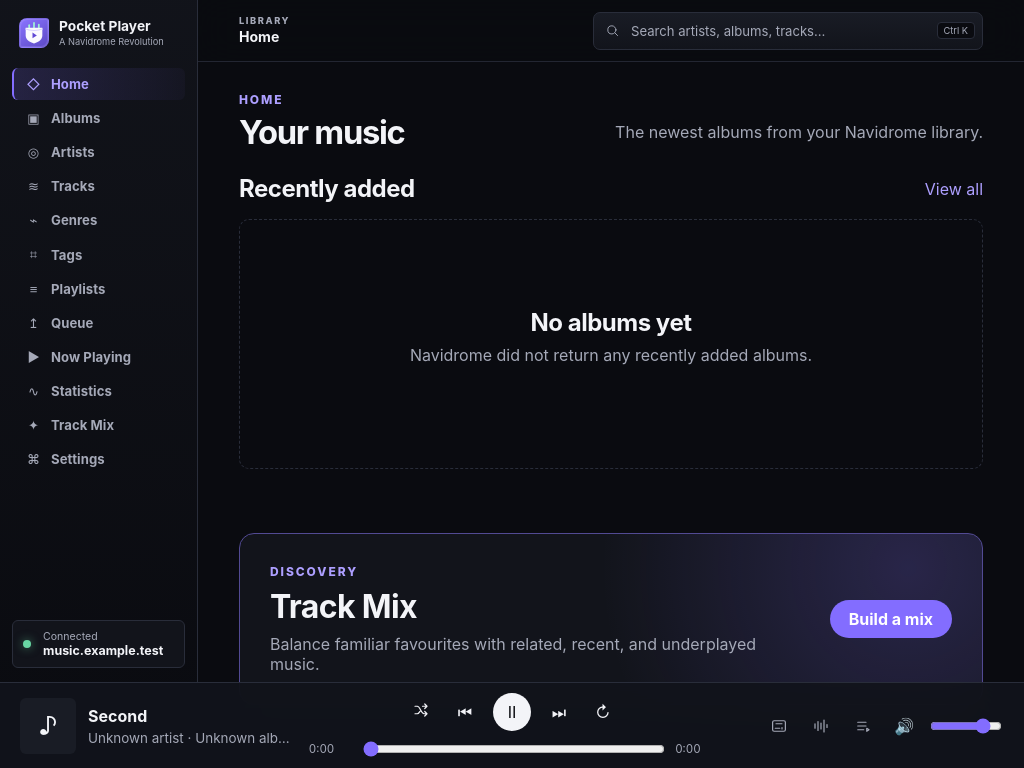
opens the interactive queue above the player without replacing the current page
Click the button named "Open queue with 3 items. Now playing ": [863, 726] box [846,708,880,742]
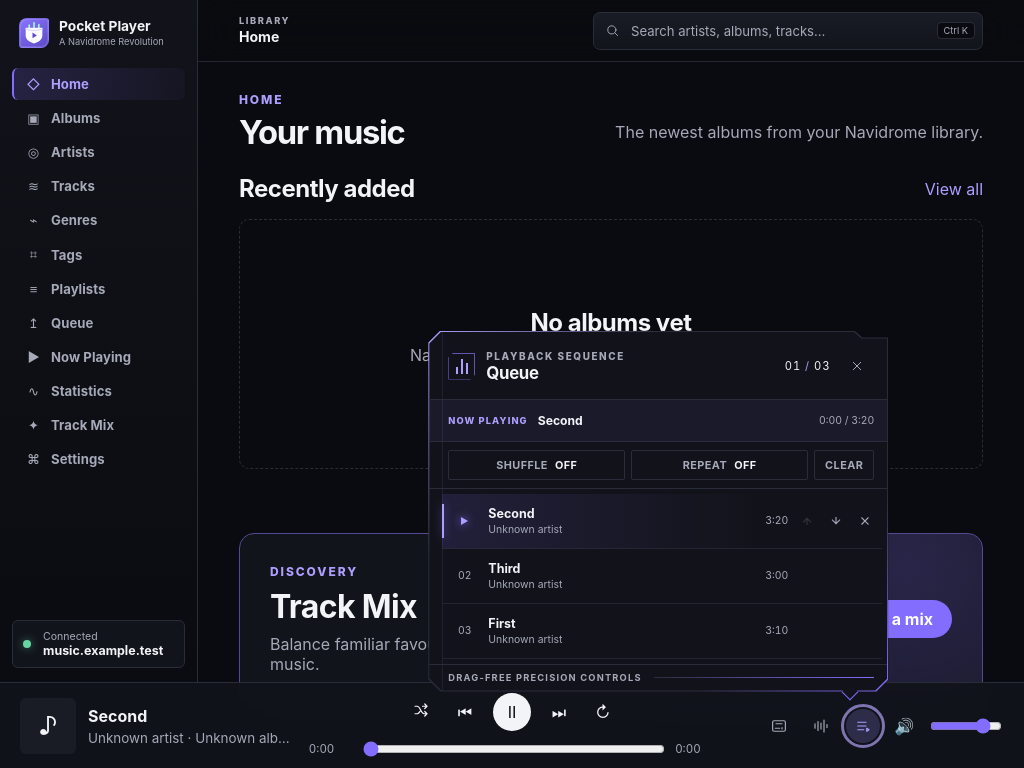
Expected: the search field named "Search artists, albums, and tracks" is shown, [593,12,983,50]
Expected: the element "Queue" is shown, [428,330,888,692]
Expected: the button named "Close queue with 3 items. Now playing " is expanded, [846,708,880,742]
Click the button "Clear": [844, 464] box [814,450,874,480]
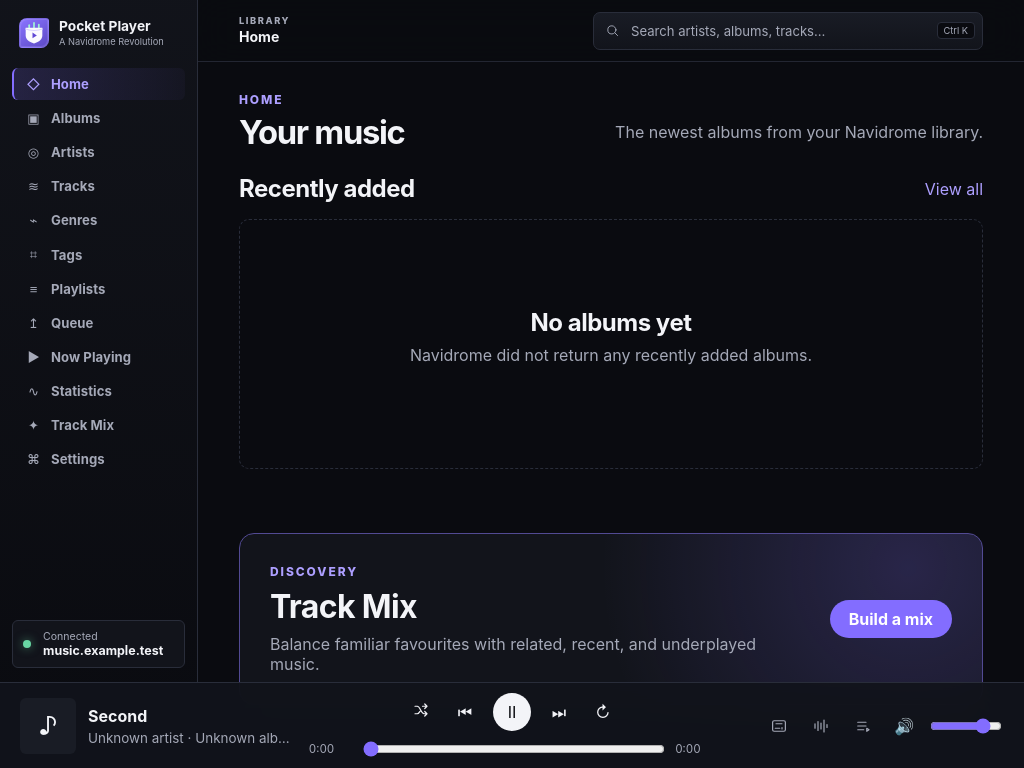
Expected: the button named "Open queue with 3 items. Now playing " is collapsed, [846,708,880,742]
